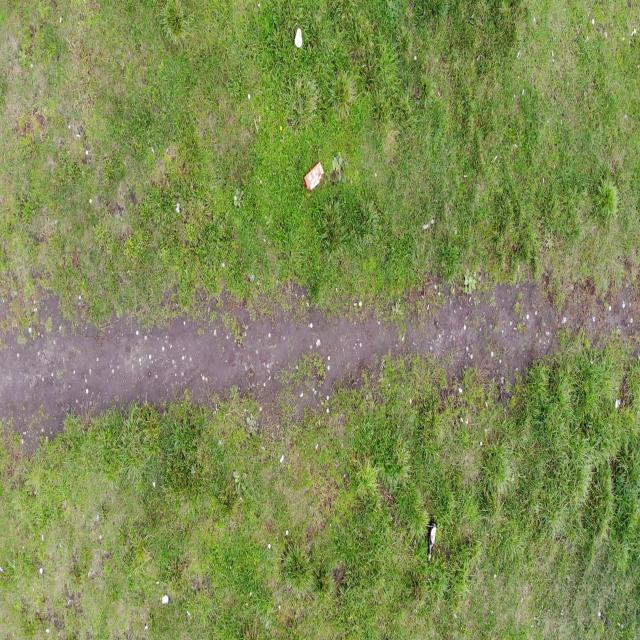rubbish: (302, 163, 325, 191), (427, 517, 438, 564), (293, 26, 302, 44)
